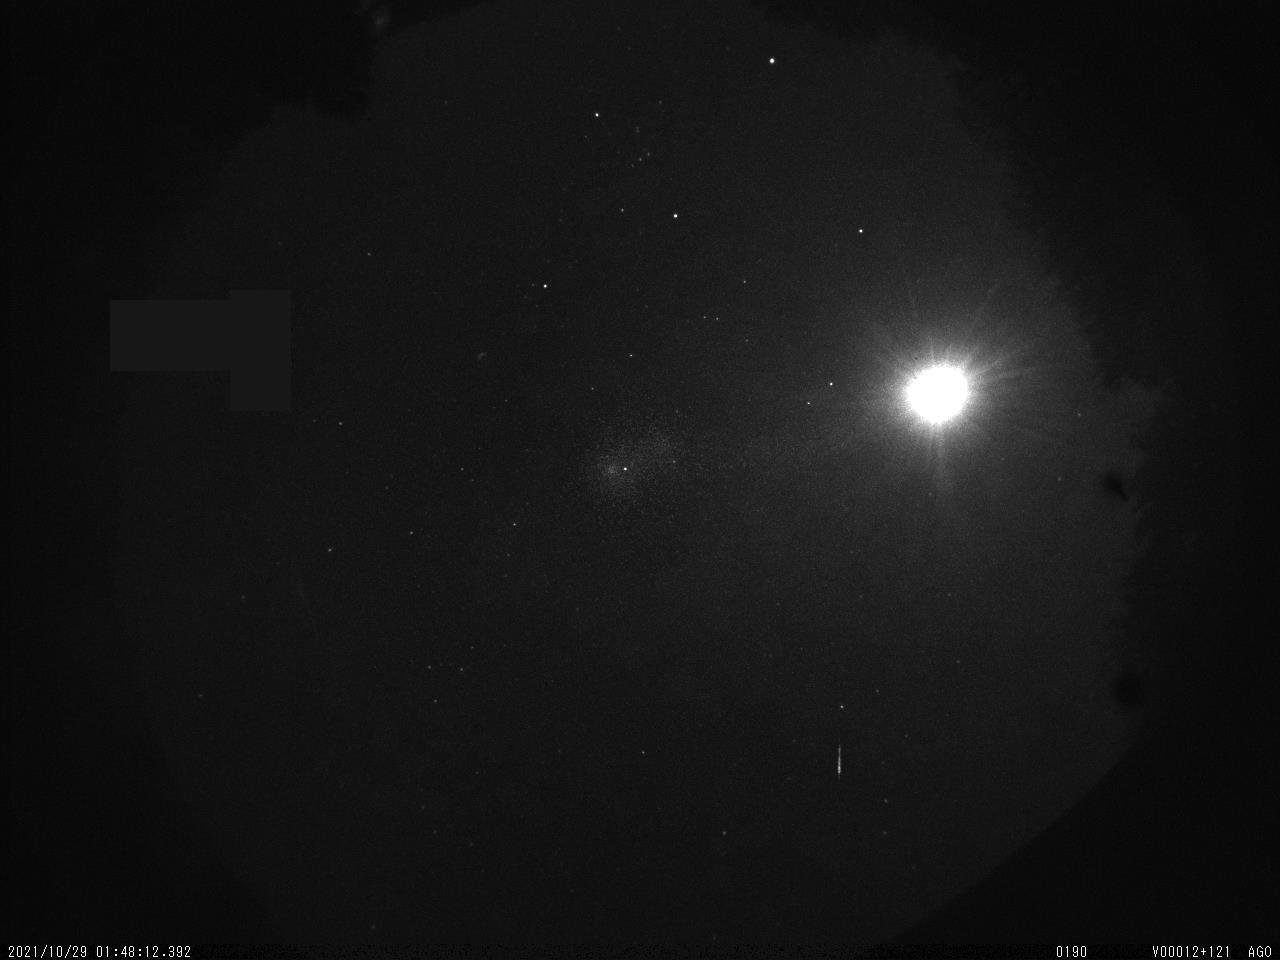Meteor: (831, 735, 848, 785)
